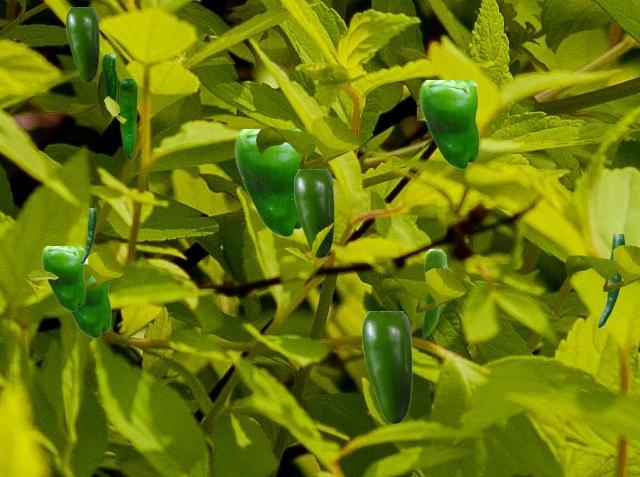green_chili: (234, 129, 306, 236), (362, 311, 411, 423), (419, 80, 478, 168), (294, 169, 333, 257), (69, 261, 110, 337), (41, 246, 84, 310), (597, 234, 624, 327), (66, 7, 98, 81), (422, 249, 446, 337), (119, 79, 136, 158), (80, 208, 95, 263), (102, 54, 116, 100)
